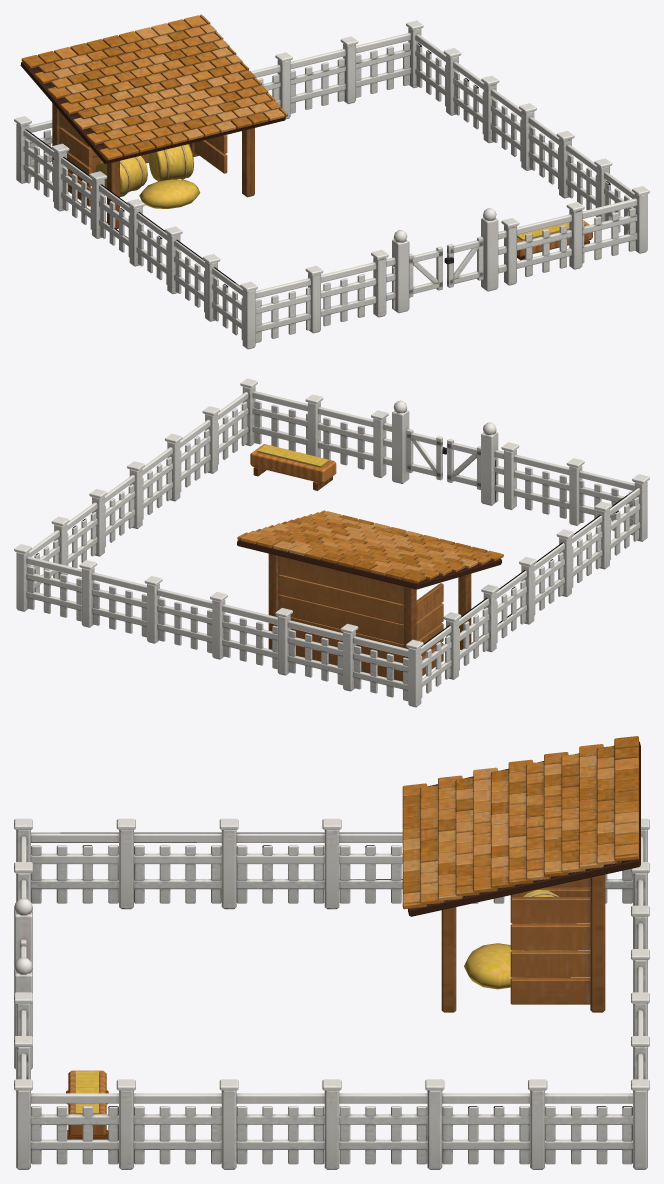
Rendered from guernsey_pasture.glb.
The picture shows the model from 3 angles, top to bottom: view 1: azimuth 30°, elevation 25°; view 2: azimuth 150°, elevation 25°; view 3: azimuth 270°, elevation 25°; orthographic projection. The views are drawn at different scales.
Visible parts, largest first — view 1: guernsey_pasture, gate1, gate0; view 2: guernsey_pasture, gate1, gate0; view 3: guernsey_pasture.
Part boxes in pixels (box(x1,y1,x2,y2)): guernsey_pasture: box(14, 14, 649, 349); gate1: box(444, 236, 483, 287); gate0: box(409, 246, 442, 297); guernsey_pasture: box(14, 378, 649, 707); gate1: box(406, 429, 446, 480); gate0: box(447, 439, 480, 489); guernsey_pasture: box(14, 736, 649, 1169).
Bounding box in the file's own units: 2.99 × 0.9346 × 2.99.
1 material, 1 textured.
